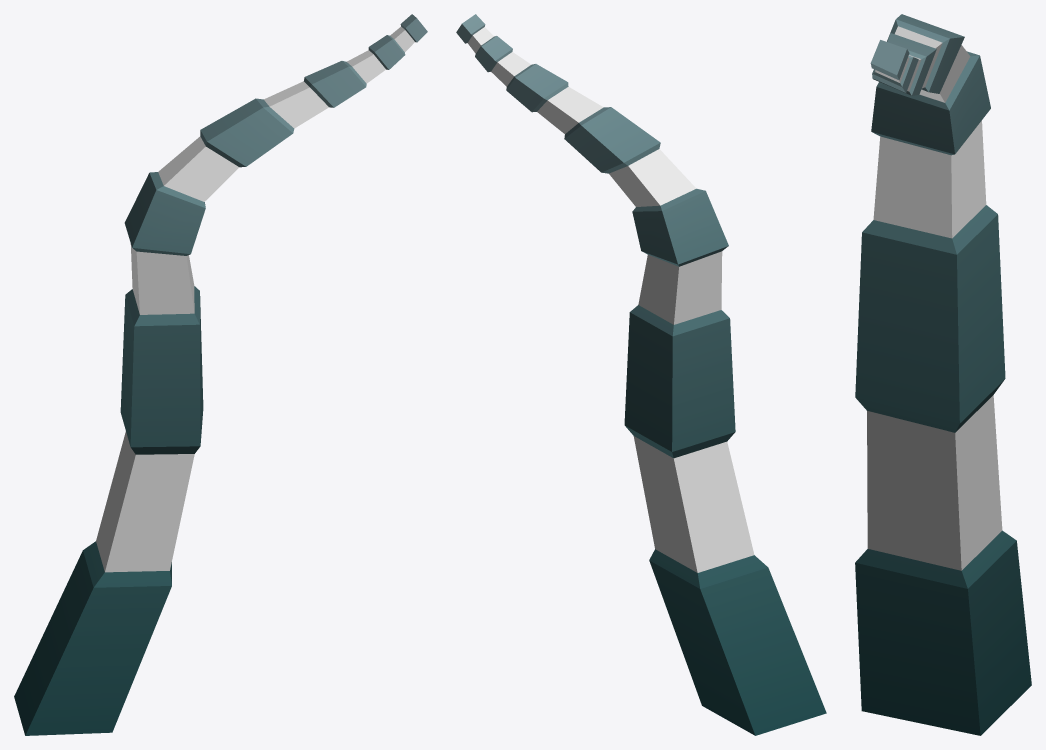
3 views of the same model, side by side, from view 1: azimuth 30°, elevation 25°; view 2: azimuth 150°, elevation 25°; view 3: azimuth 270°, elevation 25° (orthographic). The views are drawn at different scales.
Visible parts, largest first — view 1: Cube.148; view 2: Cube.148; view 3: Cube.148.
Boxes of the visible parts, box(x1,y1,x2,y2) form: Cube.148: box(14, 14, 427, 735); Cube.148: box(456, 14, 826, 735); Cube.148: box(855, 14, 1031, 735).
Size of the model in its own units: 6.04 by 9.26 by 1.68.
